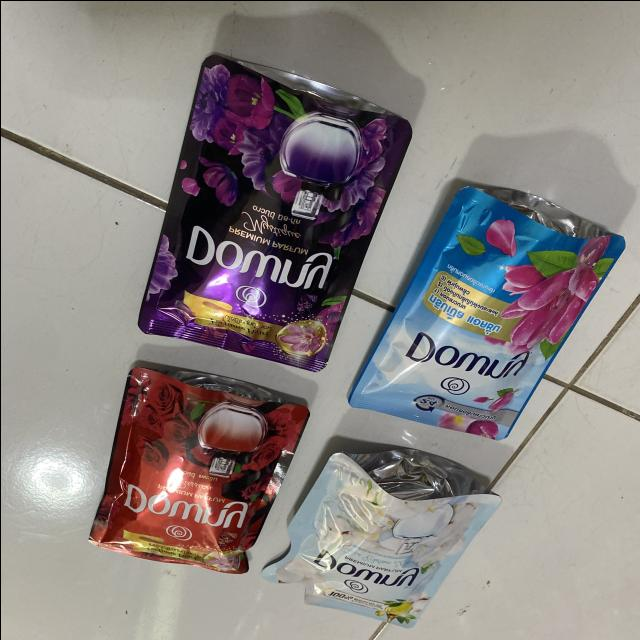plastik: (137, 54, 411, 370), (348, 186, 624, 439), (88, 367, 308, 573), (261, 449, 500, 626)
